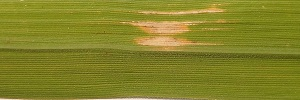RiceBacterialBlight: (115, 4, 231, 55)
